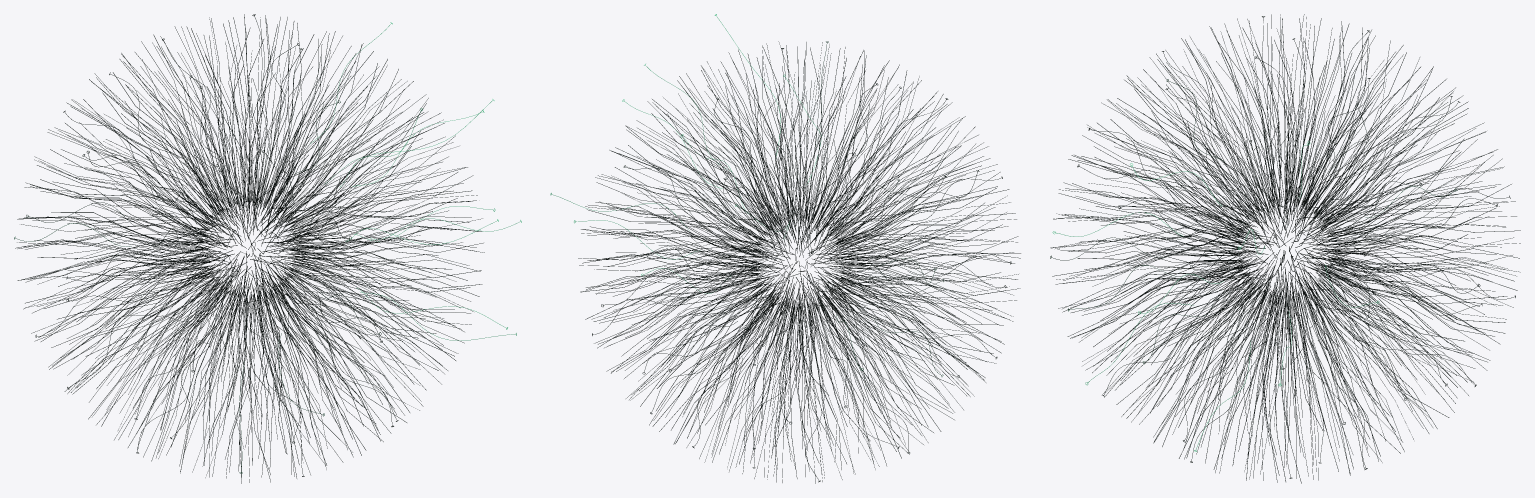
File: senzai_kk02_d0_lod1.glb
3 renders of one model, left to right at view 1: azimuth 30°, elevation 25°; view 2: azimuth 150°, elevation 25°; view 3: azimuth 270°, elevation 25°, orthographic. The views are drawn at different scales.
Parts seen in each view (by area): view 1: CURVED_DORMANT_FIBERS, LIVING_ATTENTION; view 2: CURVED_DORMANT_FIBERS, LIVING_ATTENTION; view 3: CURVED_DORMANT_FIBERS, LIVING_ATTENTION.
Boxes of the visible parts, box(x1,y1,x2,y2) form: CURVED_DORMANT_FIBERS: box(15, 14, 484, 483); LIVING_ATTENTION: box(14, 14, 521, 476); CURVED_DORMANT_FIBERS: box(578, 41, 1020, 483); LIVING_ATTENTION: box(550, 14, 1011, 482); CURVED_DORMANT_FIBERS: box(1050, 14, 1520, 483); LIVING_ATTENTION: box(1050, 16, 1515, 478).
Bounding box in the file's own units: 35.01 × 31.97 × 31.98.
